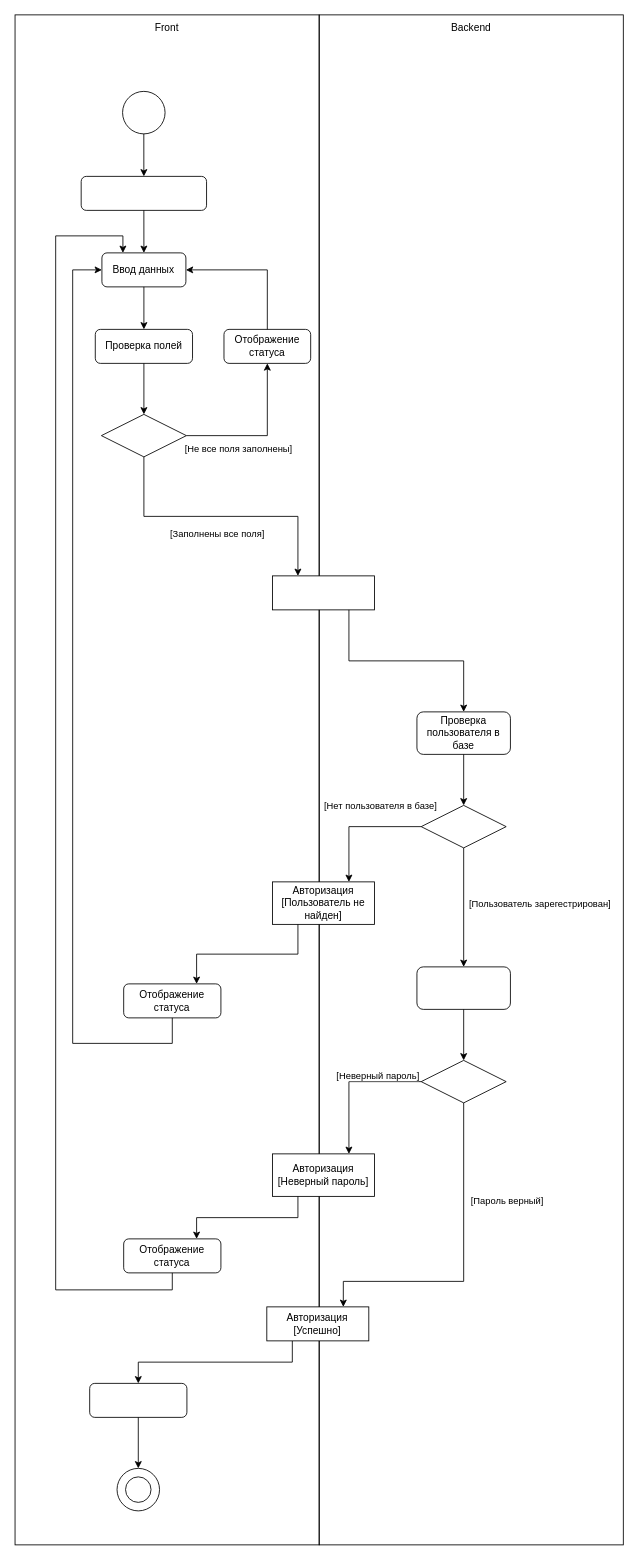
The diagram is 638 pixels wide and 1560 high, and some of its shapes have lost their labels. Here are the shapes that lost their labels. From the top down, the box of each, then its label:
(80, 176, 207, 210): Загрузка страницы
(272, 575, 374, 610): Данные [Получены]
(416, 966, 510, 1009): Проверка хэша пароля
(89, 1383, 187, 1417): Переадресация в личный кабинет
